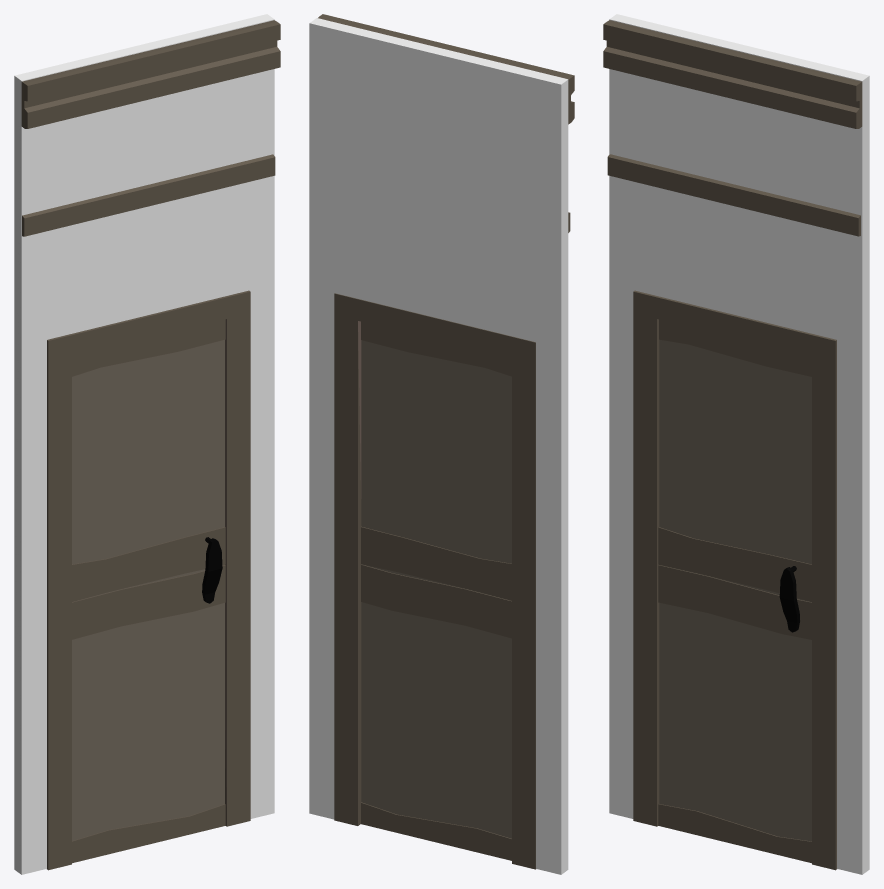
File: DOOR_01_1.fbx
The picture shows the model from 3 angles, left to right: view 1: azimuth 30°, elevation 25°; view 2: azimuth 150°, elevation 25°; view 3: azimuth 330°, elevation 25°; orthographic projection.
Visible parts, largest first — view 1: DOOR_01_1; view 2: DOOR_01_1; view 3: DOOR_01_1.
Part boxes in pixels (x1,y1,x2,y2): DOOR_01_1: [14, 14, 280, 874]; DOOR_01_1: [309, 14, 574, 874]; DOOR_01_1: [603, 14, 869, 874].
Bounding box in the file's own units: 100 × 300 × 10.82.
